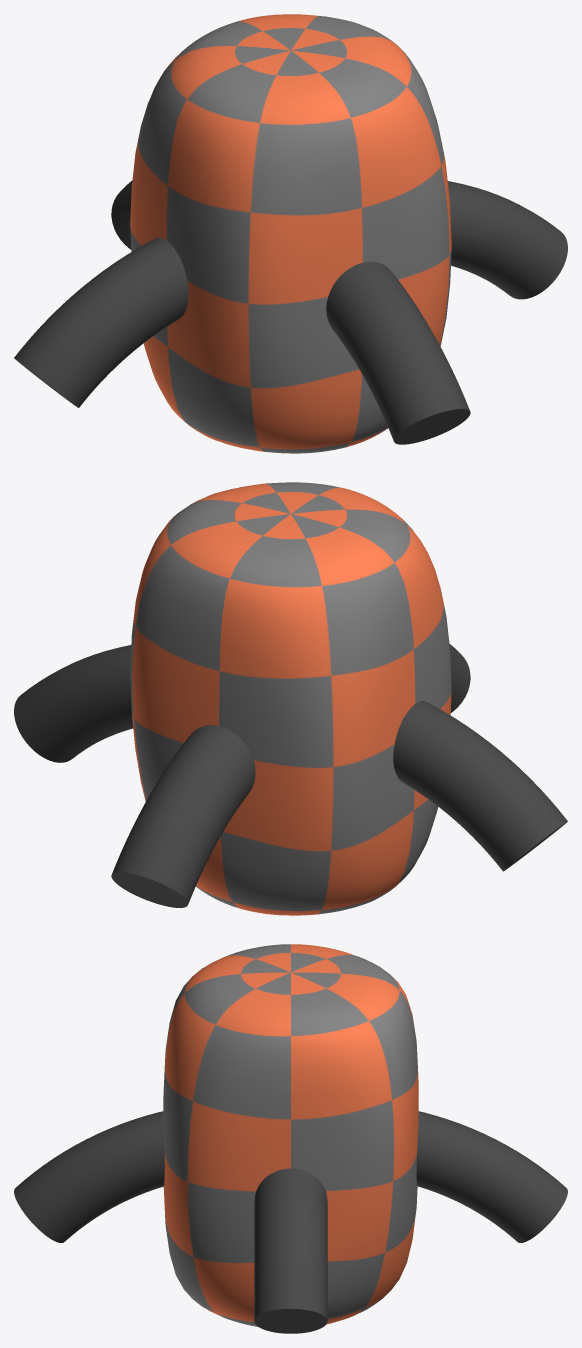
File: Body(Oblong)+Colour(More_Orange)+Pattern(Checkered)+Arm_Angle(Bent_Down).fbx
3 renders of one model, top to bottom at view 1: azimuth 30°, elevation 25°; view 2: azimuth 150°, elevation 25°; view 3: azimuth 270°, elevation 25°, orthographic. The views are drawn at different scales.
Parts seen in each view (by area): view 1: Body(Oblong)+Colour(More_Orange)+Pattern(Checkered)+Arm_Angl (×5); view 2: Body(Oblong)+Colour(More_Orange)+Pattern(Checkered)+Arm_Angl (×5); view 3: Body(Oblong)+Colour(More_Orange)+Pattern(Checkered)+Arm_Angl (×4).
Part boxes in pixels (x1,y1,x2,y2): Body(Oblong)+Colour(More_Orange)+Pattern(Checkered)+Arm_Angl (×5): (14,14,567,453); Body(Oblong)+Colour(More_Orange)+Pattern(Checkered)+Arm_Angl (×5): (14,482,567,915); Body(Oblong)+Colour(More_Orange)+Pattern(Checkered)+Arm_Angl (×4): (14,944,567,1333).
Size of the model in its own units: 60.67 by 40 by 60.67.
Materials: 2 (2 with a texture image).
